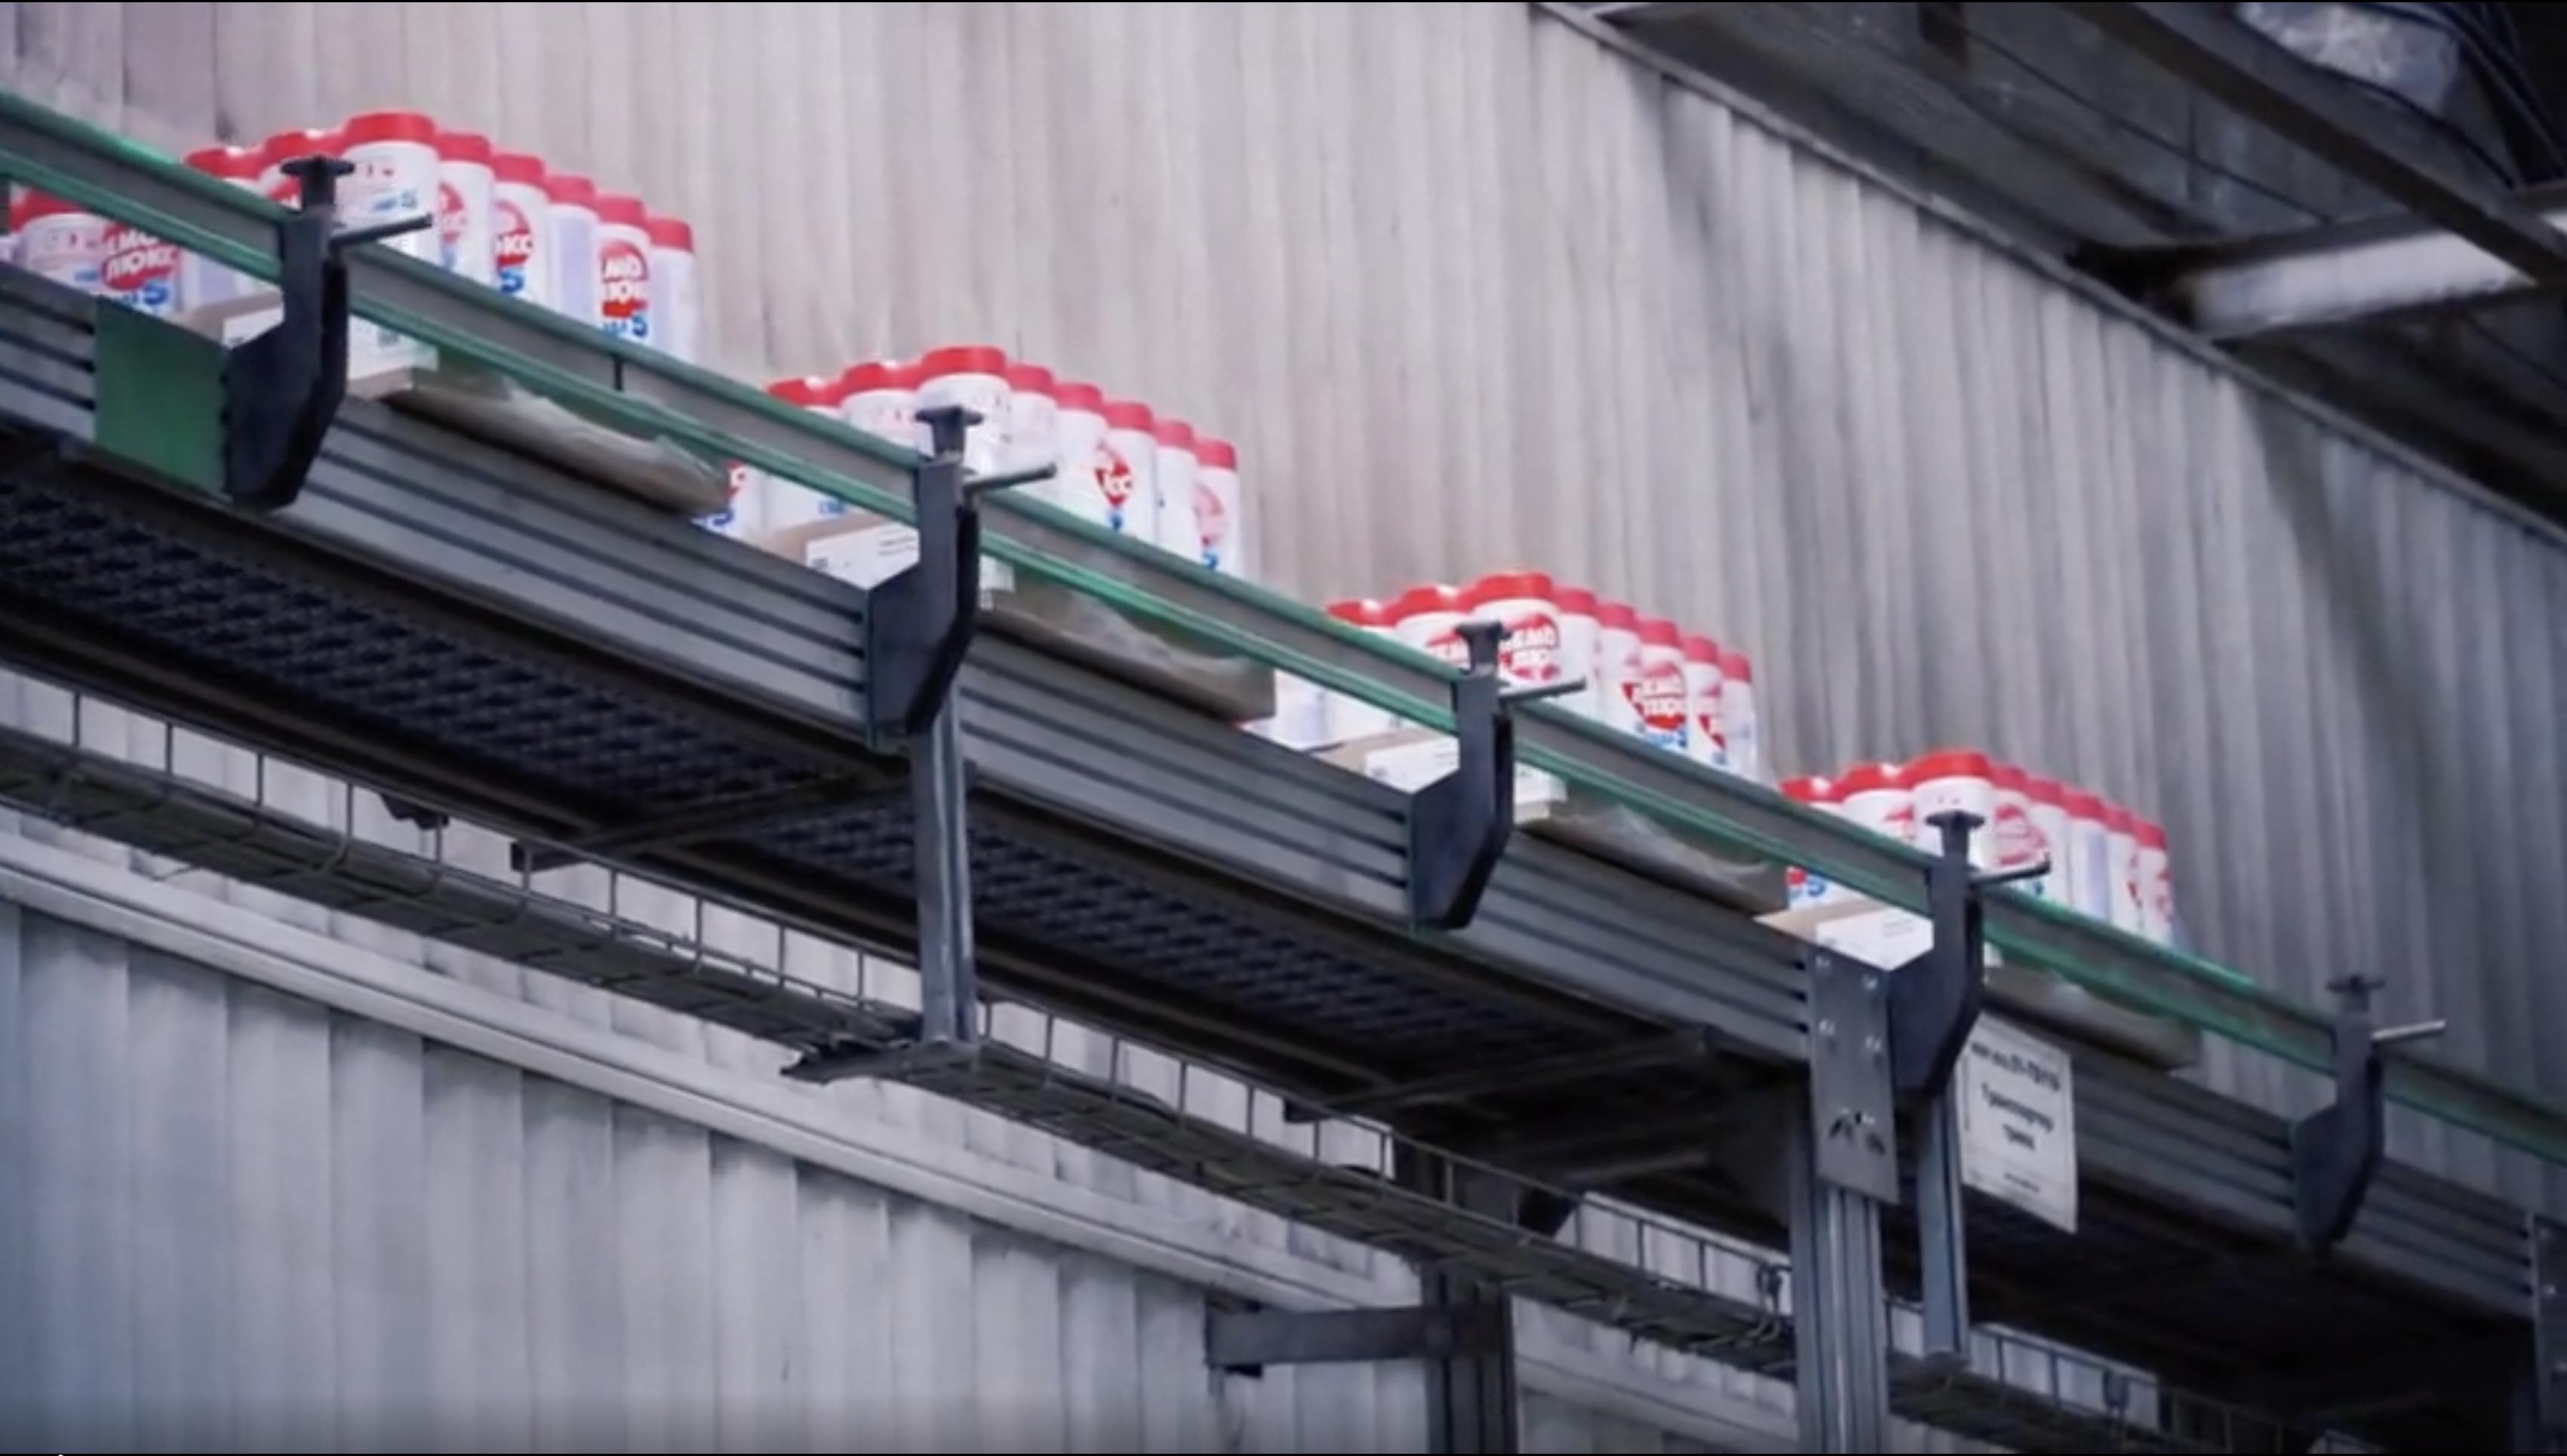pallet: (35, 100, 712, 516), (767, 330, 1269, 686), (1328, 566, 1779, 873), (1823, 740, 2200, 955)
